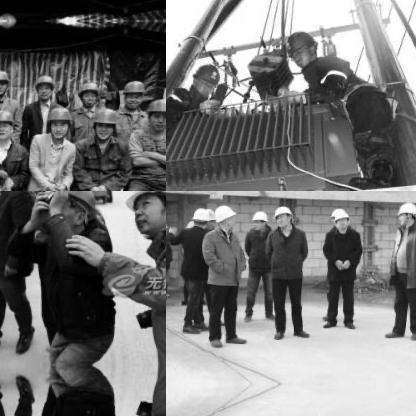Helmet: (51, 191, 96, 234), (122, 191, 165, 233), (186, 54, 222, 104), (282, 24, 320, 70), (45, 102, 71, 138), (92, 105, 116, 141), (143, 97, 165, 130), (76, 78, 100, 106), (121, 78, 143, 108), (395, 198, 415, 227), (32, 73, 53, 99), (328, 206, 350, 230), (214, 204, 234, 230), (0, 108, 15, 142), (272, 204, 292, 228), (250, 207, 268, 231), (189, 205, 207, 227), (0, 67, 8, 96), (206, 207, 214, 227)
